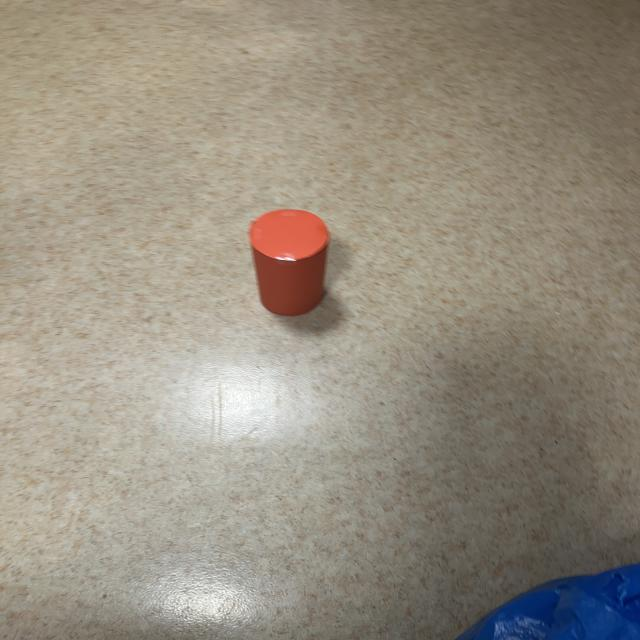przeszkoda: (249, 209, 329, 316)
